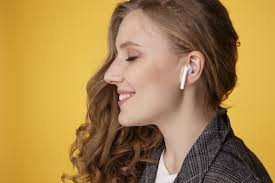earphone: (179, 51, 205, 90)
